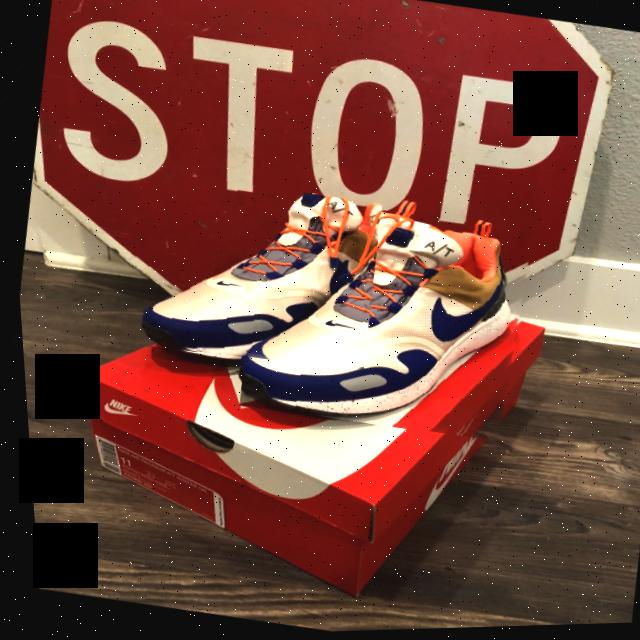shoe: (222, 188, 541, 454), (110, 164, 387, 386)
